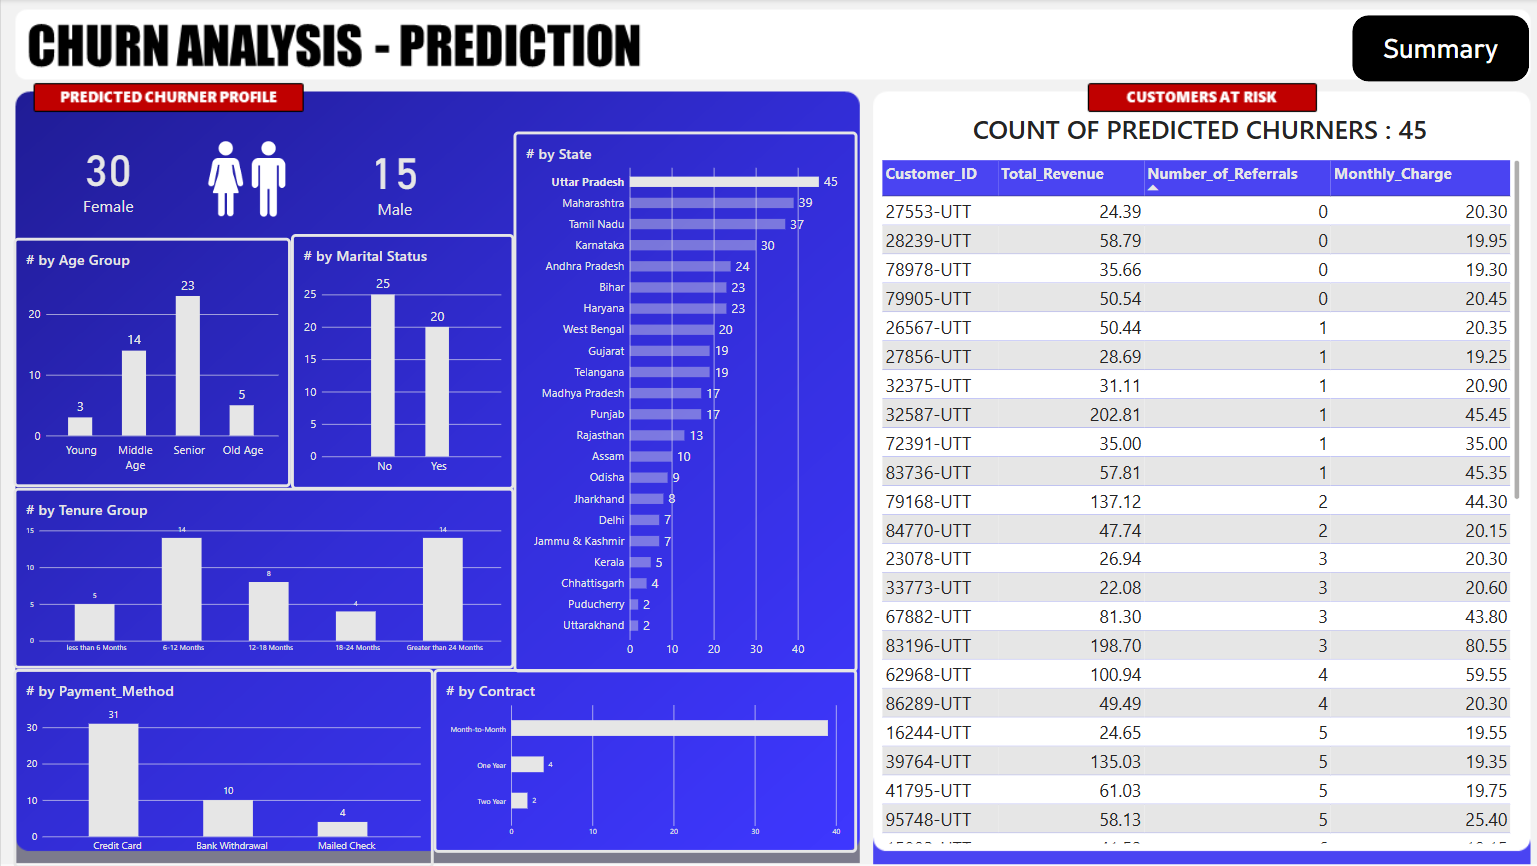

The page's visual inventory and layout, read from the dashboard file:
{"tool":"powerbi","page":{"name":"Churn Prediction","canvas":[2560,1440],"ordinal":2},"visuals":[{"type":"tableEx","fields":{"Values":["Predictions.Customer_ID","Predictions.Total_Revenue","Predictions.Number_of_Referrals","Predictions.Monthly_Charge"]},"box":[1443.5,253.9,1089.3,1163.1],"z":0},{"type":"card","fields":{"Values":["Tbl_Measures.Title Predicted Churner"]},"box":[1496.7,135.8,983,159.4],"z":1000},{"type":"card","fields":{"Values":["Tbl_Measures.Count Predicted Churner"]},"box":[38.4,197.8,277.5,191.9],"z":2000},{"type":"card","fields":{"Values":["Tbl_Measures.Count Predicted Churner"]},"box":[498.9,200.7,307,191.9],"z":3000},{"type":"clusteredColumnChart","fields":{"Category":["Mapping_groupAge.Age Group"],"Y":["CountNonNull(Predictions.Customer_ID)"]},"box":[20,396,460,413.3],"z":4000},{"type":"clusteredColumnChart","fields":{"Category":["Predictions.Married"],"Y":["CountNonNull(Predictions.Customer_ID)"]},"box":[480,390,370,424],"z":5000},{"type":"clusteredColumnChart","fields":{"Category":["Predictions.Payment_Method"],"Y":["CountNonNull(Predictions.Customer_ID)"]},"box":[20,1110,696.7,330],"z":7000},{"type":"clusteredColumnChart","fields":{"Category":["Mapping_groupTenure.Tenure Group"],"Y":["CountNonNull(Predictions.Customer_ID)"]},"box":[20,810,830,300],"z":7500},{"type":"clusteredBarChart","fields":{"Category":["Predictions.State"],"Y":["CountNonNull(Predictions.Customer_ID)"]},"box":[850,220,570,896.7],"z":8000},{"type":"clusteredBarChart","fields":{"Category":["Predictions.Contract"],"Y":["CountNonNull(Predictions.Customer_ID)"]},"box":[717.1,1110.9,702.6,304.7],"z":9000},{"type":"image","box":[312.9,218.5,188.9,159.4],"z":10000},{"type":"shape","box":[2240,26.7,293.3,110],"z":11000}]}

Visuals, with their boxes in screenshot pixels (x1, y1, x2, y2), scaled from the page's 2560x1440 canvas onto the 1537x866 screenshot:
tableEx - Predictions.Customer_ID x Predictions.Total_Revenue: rect(867, 153, 1521, 852)
card - Tbl_Measures.Title Predicted Churner: rect(899, 82, 1489, 178)
card - Tbl_Measures.Count Predicted Churner: rect(23, 119, 190, 234)
card - Tbl_Measures.Count Predicted Churner: rect(300, 121, 484, 236)
clusteredColumnChart - Mapping_groupAge.Age Group x CountNonNull(Predictions.Customer_ID): rect(12, 238, 288, 487)
clusteredColumnChart - Predictions.Married x CountNonNull(Predictions.Customer_ID): rect(288, 235, 510, 490)
clusteredColumnChart - Predictions.Payment_Method x CountNonNull(Predictions.Customer_ID): rect(12, 668, 430, 865)
clusteredColumnChart - Mapping_groupTenure.Tenure Group x CountNonNull(Predictions.Customer_ID): rect(12, 487, 510, 668)
clusteredBarChart - Predictions.State x CountNonNull(Predictions.Customer_ID): rect(510, 132, 853, 672)
clusteredBarChart - Predictions.Contract x CountNonNull(Predictions.Customer_ID): rect(431, 668, 852, 851)
image: rect(188, 131, 301, 227)
shape: rect(1345, 16, 1521, 82)
